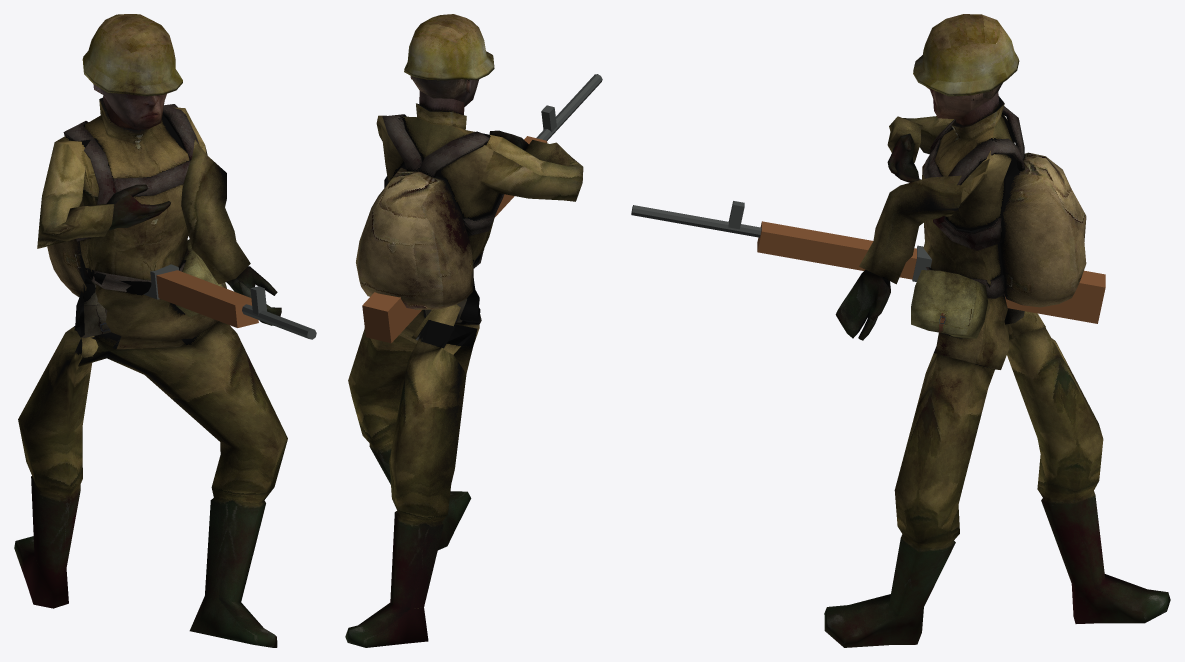
File: soviet_ww2_soldier_walk_01.glb
The picture shows the model from 3 angles, left to right: view 1: azimuth 30°, elevation 25°; view 2: azimuth 150°, elevation 25°; view 3: azimuth 270°, elevation 25°; orthographic projection. The views are drawn at different scales.
Parts seen in each view (by area): view 1: final_Static, SovietRifle_Generated; view 2: final_Static, SovietRifle_Generated; view 3: final_Static, SovietRifle_Generated.
Boxes of the visible parts, bbox=[...] form: final_Static: bbox=[14, 14, 287, 647]; SovietRifle_Generated: bbox=[144, 264, 316, 339]; final_Static: bbox=[345, 14, 583, 647]; SovietRifle_Generated: bbox=[362, 74, 602, 343]; final_Static: bbox=[824, 14, 1170, 647]; SovietRifle_Generated: bbox=[631, 201, 1105, 323].
Size of the model in its own units: 0.7246 by 1.73 by 1.38.
Materials: 3 (1 with a texture image).
